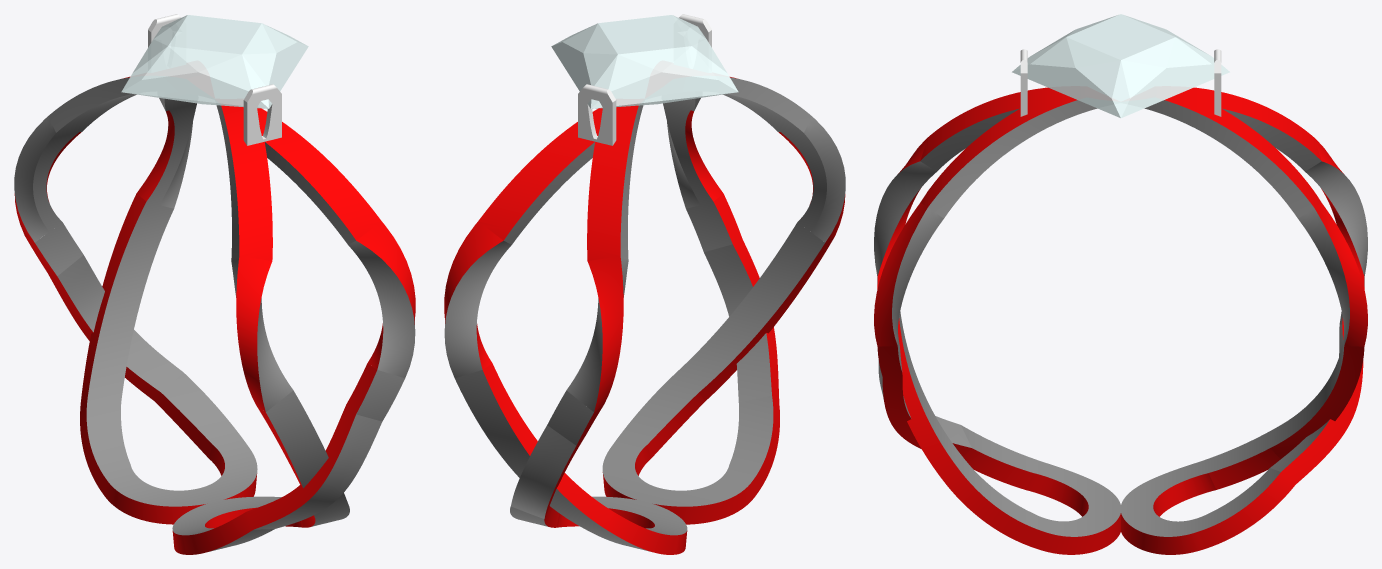
The model's file is Ring.glb.
3 renders of one model, left to right at view 1: azimuth 30°, elevation 25°; view 2: azimuth 150°, elevation 25°; view 3: azimuth 270°, elevation 25°, orthographic.
Visible parts, largest first — view 1: |Complete_ring_v2|Root|blue_high_gloss_plastic, |Complete_ring_v2|Root|red_spray_paint, |Complete_ring_v2|Root|yellow_high_gloss_plastic, |Complete_ring_v2|Root|green_high_gloss_plastic; view 2: |Complete_ring_v2|Root|blue_high_gloss_plastic, |Complete_ring_v2|Root|red_spray_paint, |Complete_ring_v2|Root|yellow_high_gloss_plastic, |Complete_ring_v2|Root|green_high_gloss_plastic; view 3: |Complete_ring_v2|Root|red_spray_paint, |Complete_ring_v2|Root|blue_high_gloss_plastic, |Complete_ring_v2|Root|yellow_high_gloss_plastic, |Complete_ring_v2|Root|green_high_gloss_plastic.
Part boxes in pixels (x1,y1,x2,y2): |Complete_ring_v2|Root|blue_high_gloss_plastic: (14,77,415,551); |Complete_ring_v2|Root|red_spray_paint: (14,76,415,554); |Complete_ring_v2|Root|yellow_high_gloss_plastic: (121,15,308,108); |Complete_ring_v2|Root|green_high_gloss_plastic: (148,14,281,145); |Complete_ring_v2|Root|blue_high_gloss_plastic: (444,77,845,551); |Complete_ring_v2|Root|red_spray_paint: (444,77,845,554); |Complete_ring_v2|Root|yellow_high_gloss_plastic: (551,15,738,108); |Complete_ring_v2|Root|green_high_gloss_plastic: (578,14,711,145); |Complete_ring_v2|Root|red_spray_paint: (874,87,1367,554); |Complete_ring_v2|Root|blue_high_gloss_plastic: (874,100,1367,536); |Complete_ring_v2|Root|yellow_high_gloss_plastic: (1012,14,1229,117); |Complete_ring_v2|Root|green_high_gloss_plastic: (1020,49,1221,116).
Bounding box in the file's own units: 0.0108 × 0.0266 × 0.0243.
